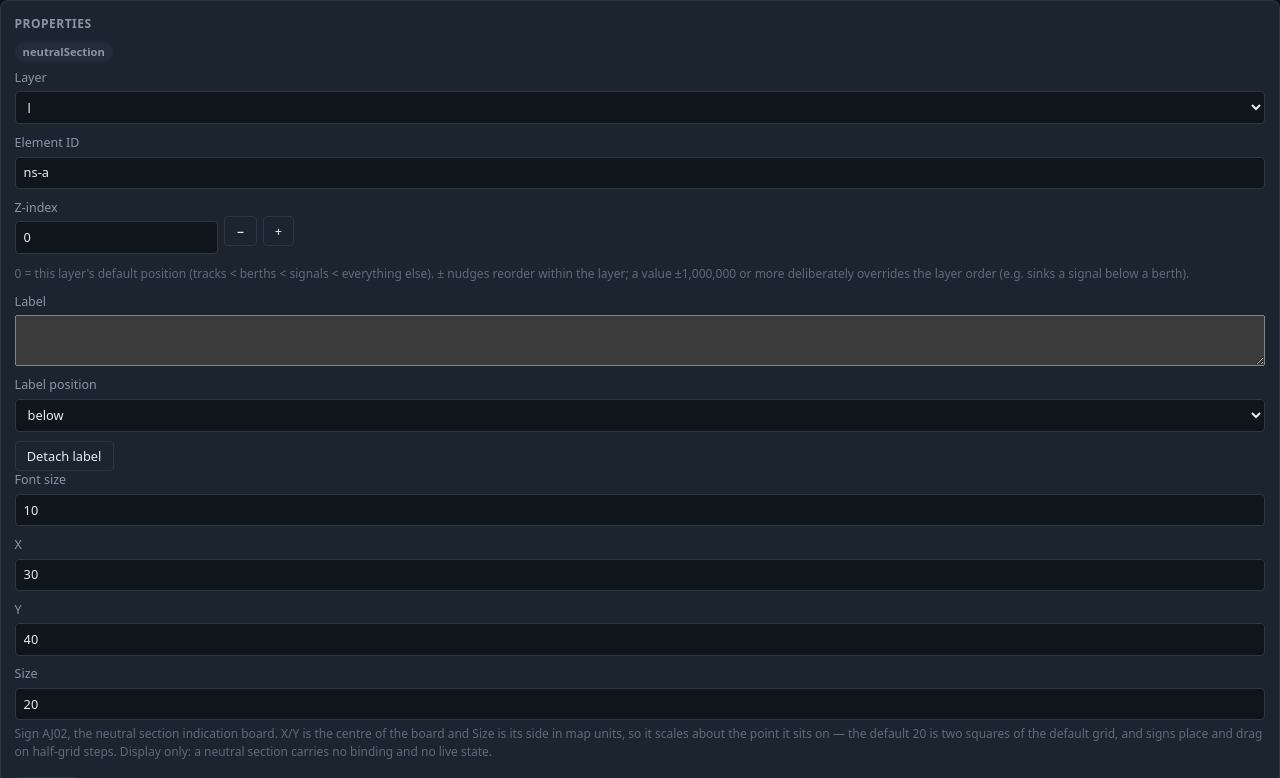
PropertyPanel neutral section fields (Milestone 53) › snaps back to the stored size rather than accepting a non-positive one the schema rejects
Replace the text in the number field labelled "Size" with "0" at point(640, 704), box [15,688,1265,720]
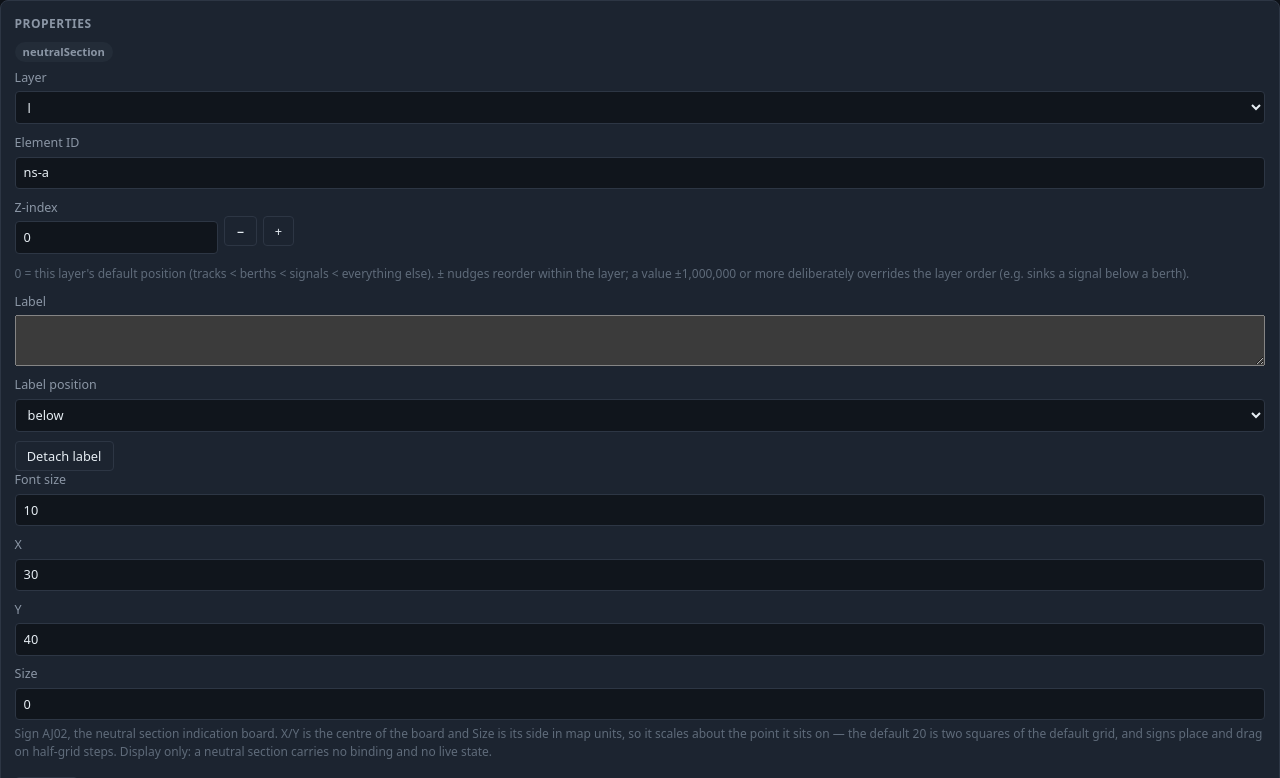
Leave the number field labelled "Size", box [15,688,1265,720]
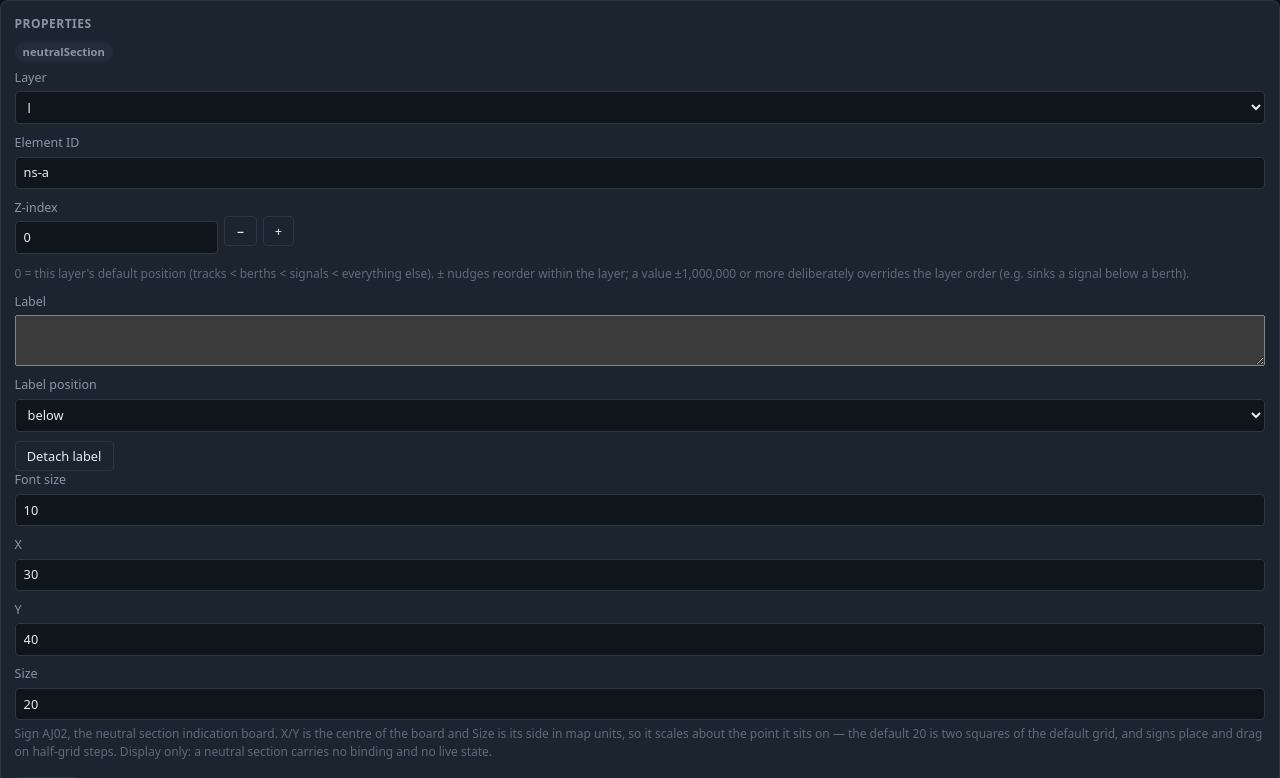
Now the number field labelled "Size" holds "20", box [15,688,1265,720]
